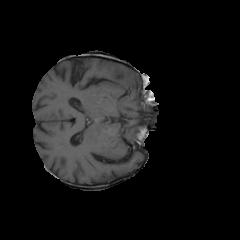glioma: (95, 60, 140, 109)
